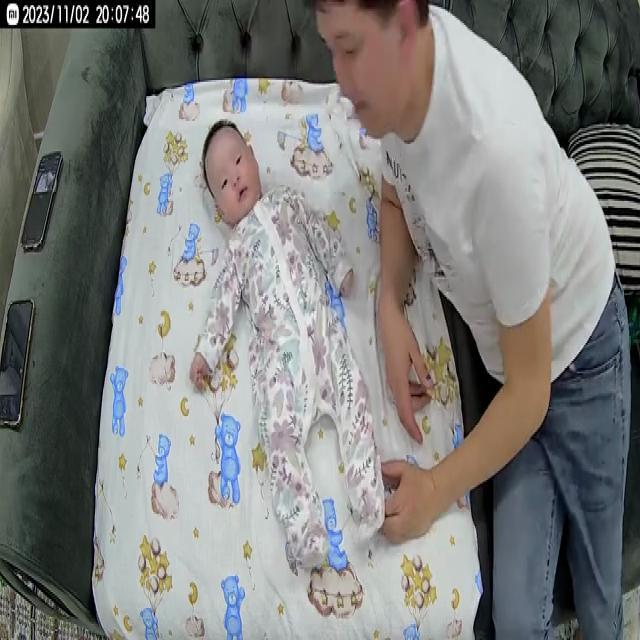baby: (194, 118, 388, 585)
